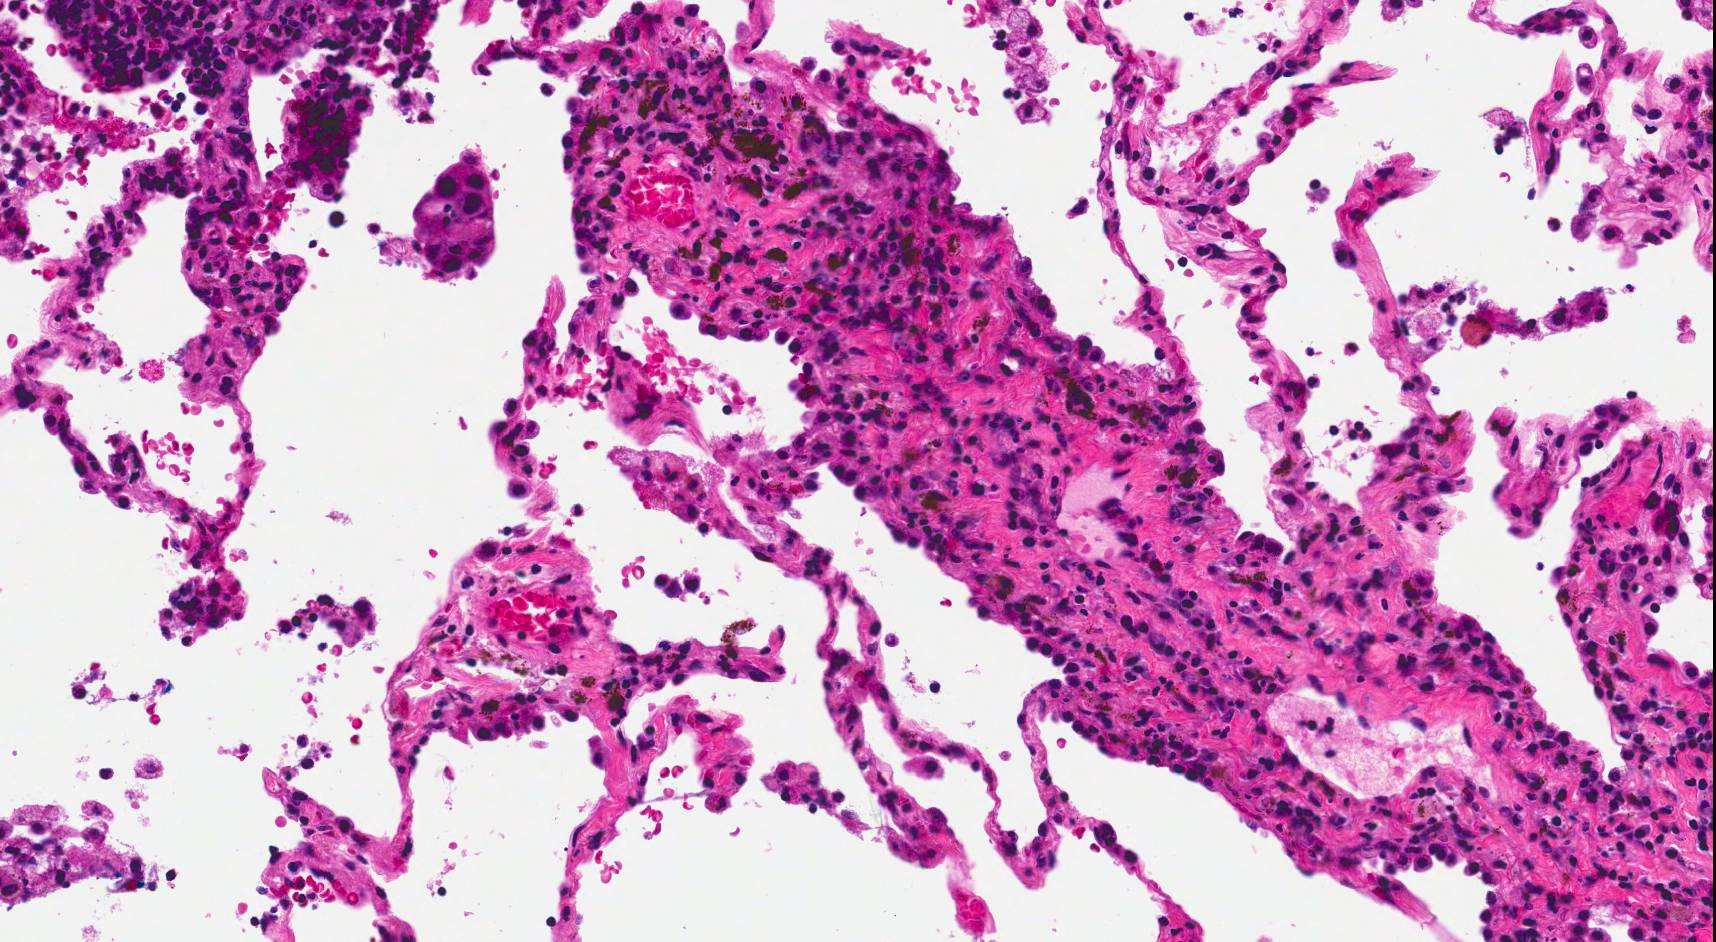stas: (410, 148, 499, 285)
